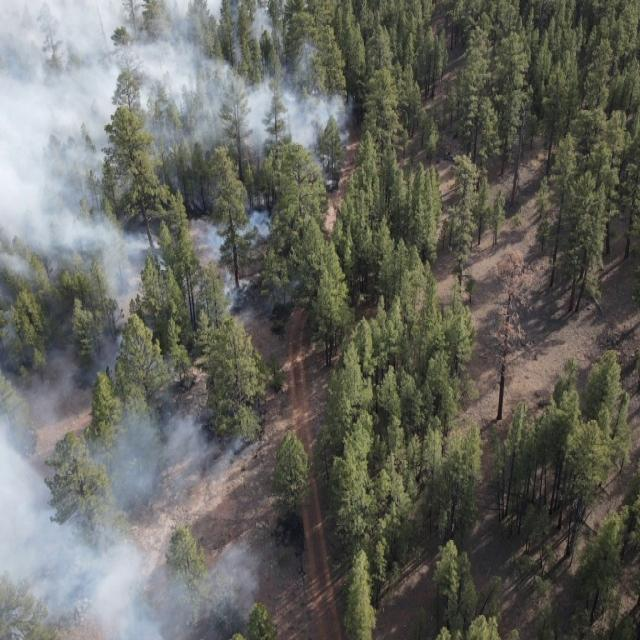smoke: (0, 0, 350, 175), (0, 398, 249, 524), (0, 522, 263, 640), (0, 174, 159, 310), (186, 202, 307, 326), (0, 318, 138, 398), (142, 350, 184, 382)
